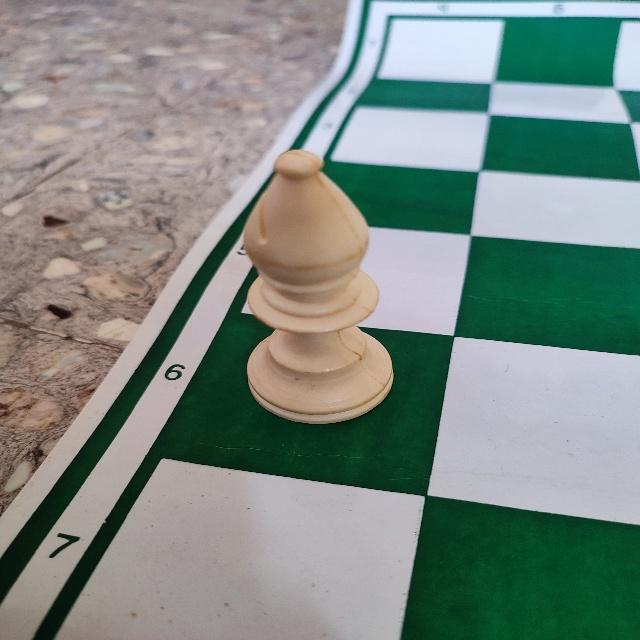Bishop: (236, 144, 400, 427)
